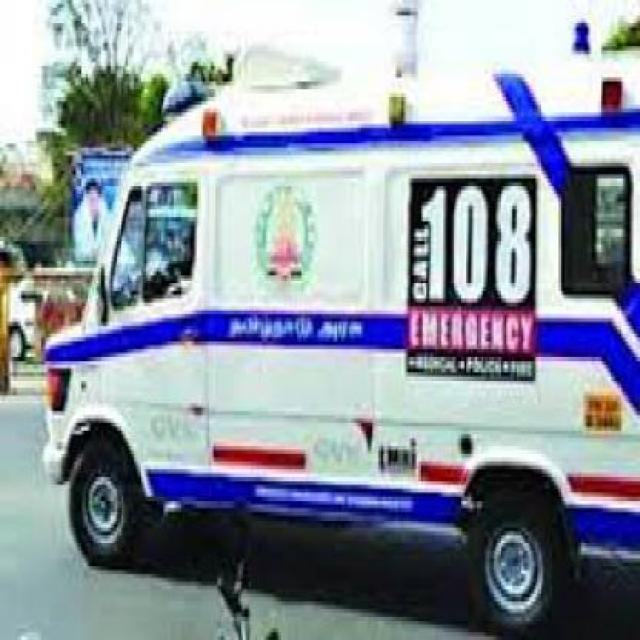Ambulance: (39, 54, 638, 628)
